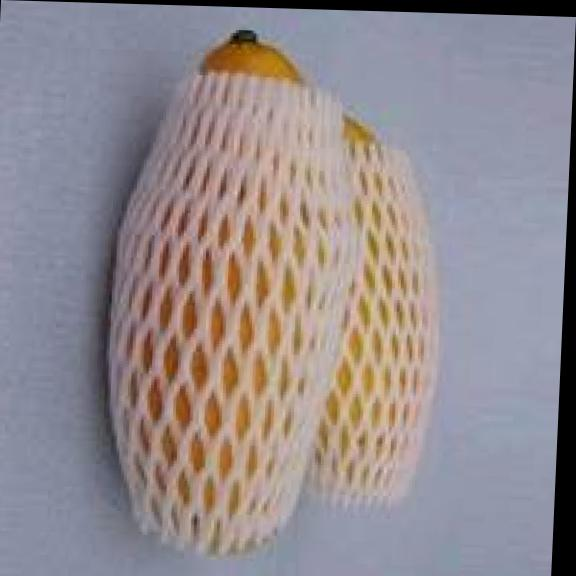Kertas: (104, 76, 349, 547), (298, 145, 436, 505)
